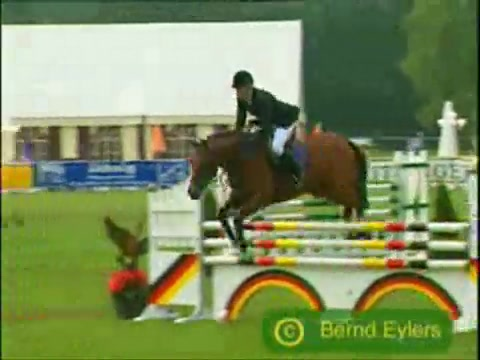horse: (186, 129, 372, 254)
